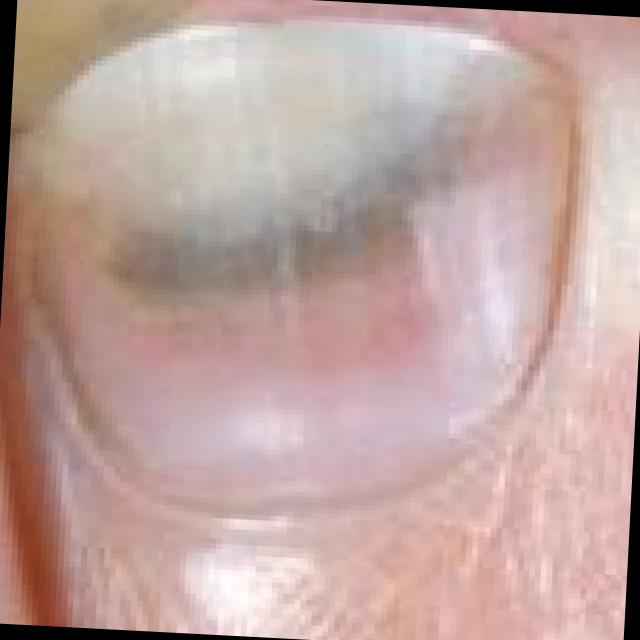Nail: (21, 13, 572, 507)
